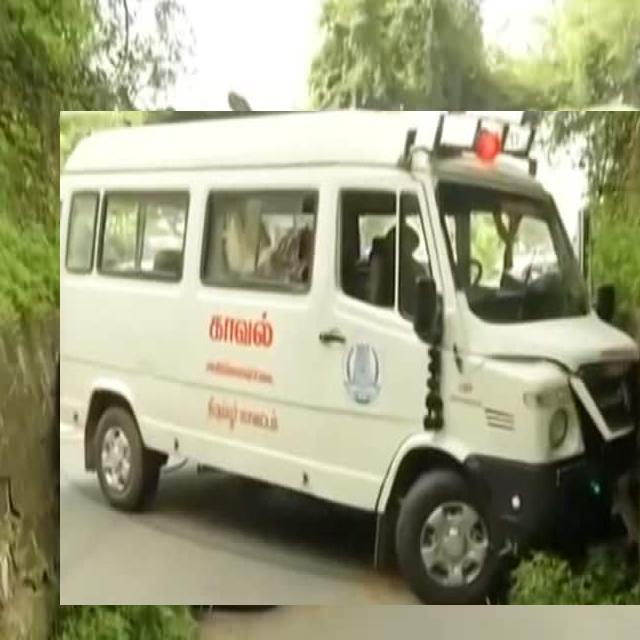emergency: (60, 111, 640, 605)
